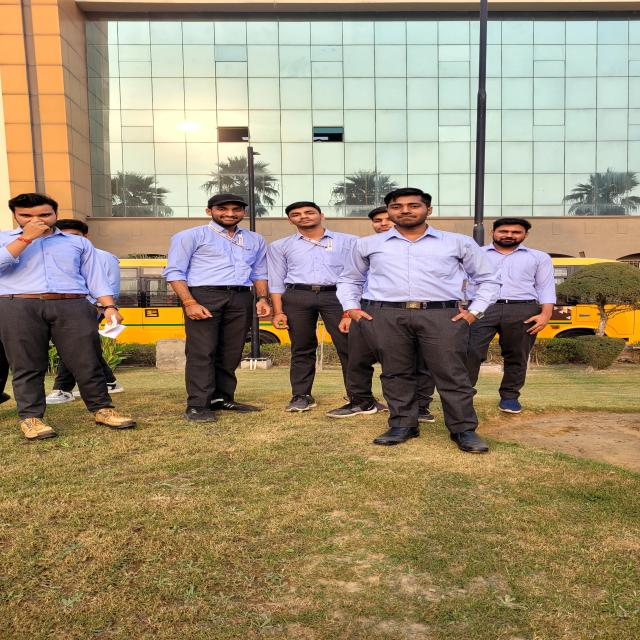unsafe: (346, 188, 495, 455), (0, 190, 134, 441), (264, 198, 360, 419), (454, 215, 557, 416), (176, 191, 266, 421)
